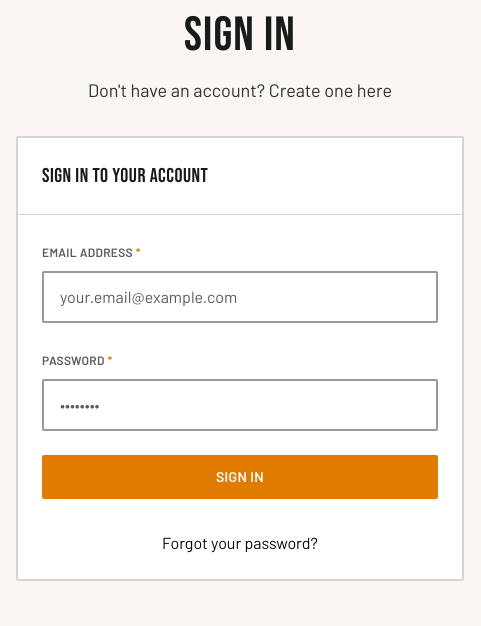
Test: LoginPage › Form Validation › should show error for invalid email
Type "invalid-email" into the field labelled "Email Address *" at (240, 297), box [42,271,438,323]
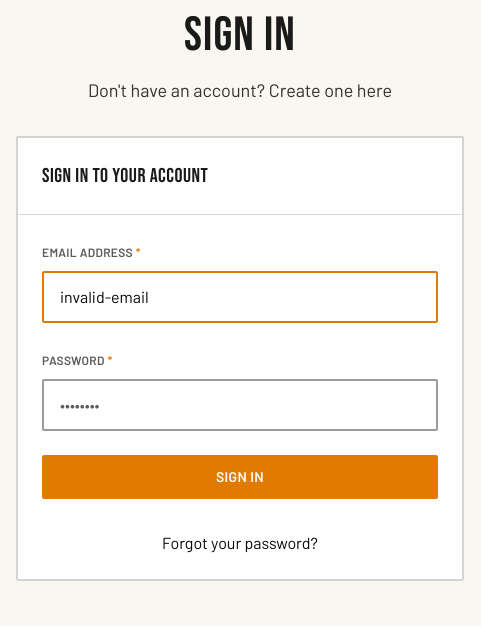
Type "validpassword123" into the password field labelled "Password *" at (240, 405), box [42,379,438,431]
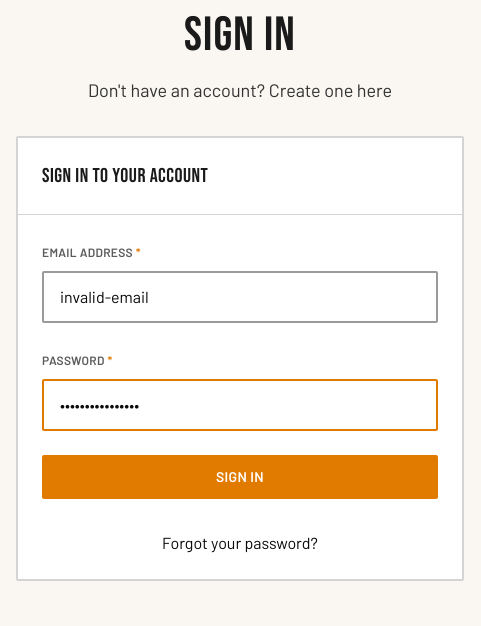
Click the button "Sign In" at (240, 477), box [42,455,438,499]
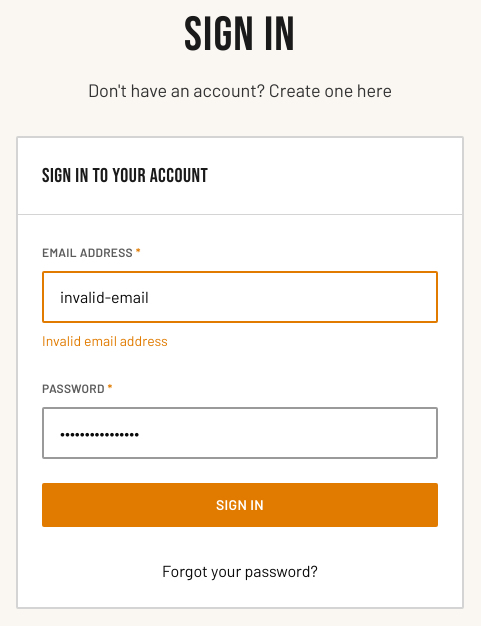
Expected: the text "Invalid email address" is shown, [42,332,168,349]
